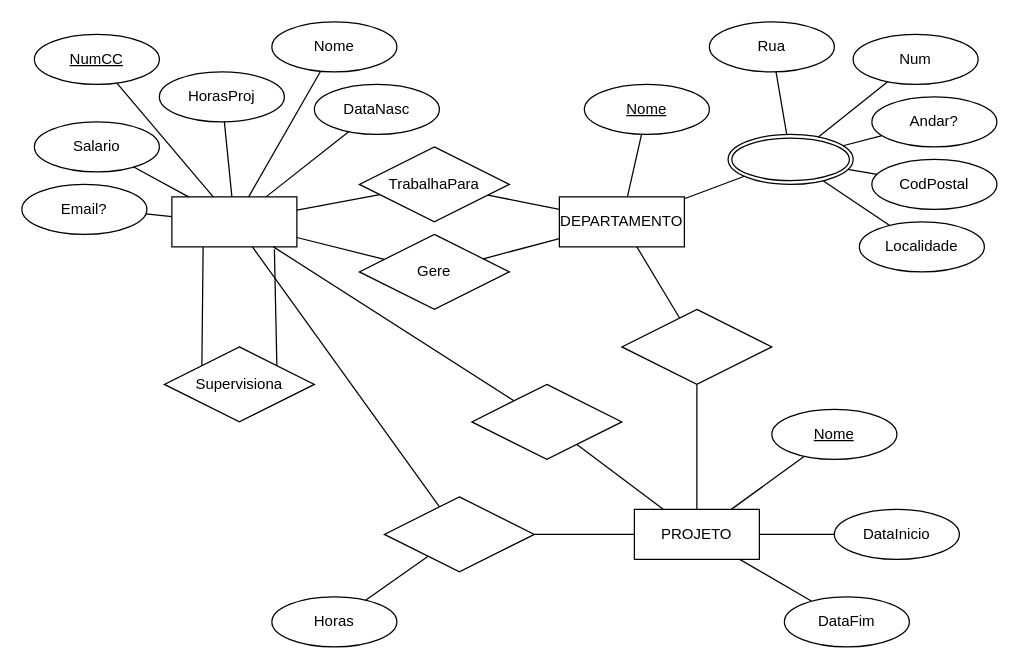
Some shapes in this 1019 by 669 pixel diagram are drawn without their labels. The centre of each missing label's shape, as x and y in pixels:
"Controla" goes at (696,346).
"Dirige" goes at (546,421).
"FUNCIONARIO" goes at (234,221).
"Localizaçao" goes at (790,158).
"TrabalhaEm" goes at (458,534).
